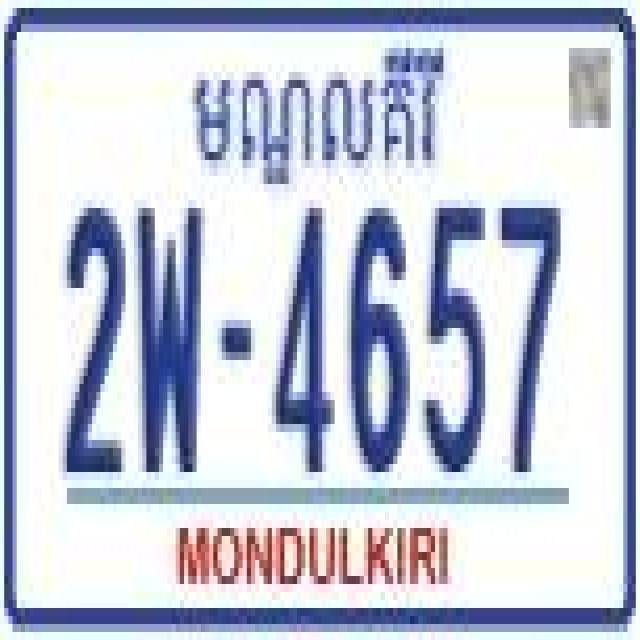Mondul_Kiri: (188, 40, 444, 194)
